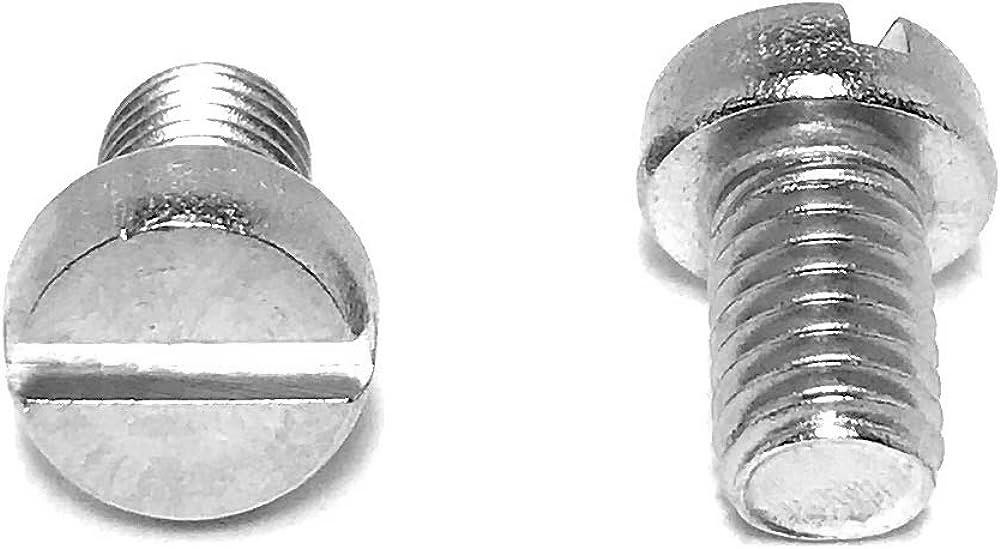screw: (0, 143, 379, 531)
